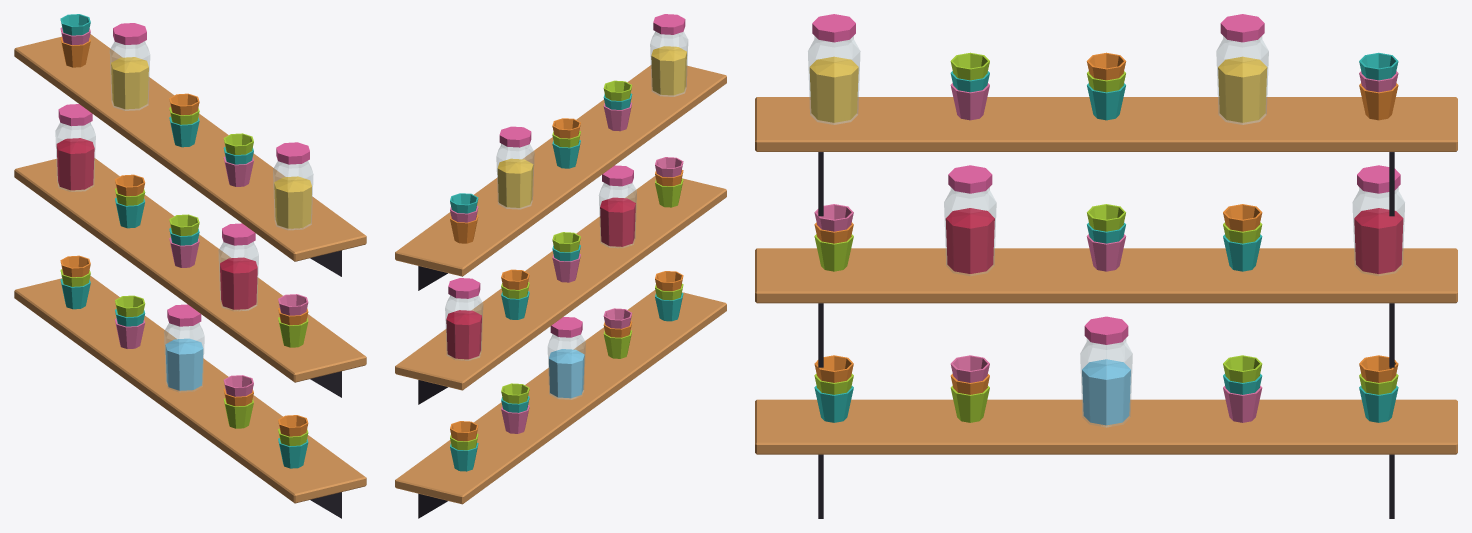
3 views of the same model, side by side, from view 1: azimuth 30°, elevation 25°; view 2: azimuth 150°, elevation 25°; view 3: azimuth 270°, elevation 25° (orthographic). The views are drawn at different scales.
Visible parts, largest first — view 1: shelf_0, shelf_1, shelf_2, jar_11, jar_14, jar_7, jar_10, jar_3, jar_fill_3, jar_fill_10, jar_fill_11, jar_fill_14 (+29 smaller); view 2: shelf_0, shelf_2, shelf_1, jar_7, jar_3, jar_10, jar_11, jar_14, jar_fill_14, jar_fill_11, jar_fill_10, jar_fill_7 (+29 smaller); view 3: shelf_0, shelf_1, shelf_2, jar_14, jar_3, jar_11, jar_7, jar_10, jar_fill_7, jar_fill_11, jar_fill_14, jar_fill_3 (+26 smaller).
Part boxes in pixels (x1,y1,x2,y2): shelf_0: (14,276,366,503); shelf_1: (14,158,366,382); shelf_2: (14,34,366,261); jar_11: (273,160,313,229); jar_14: (110,41,149,110); jar_7: (218,241,258,310); jar_10: (55,122,95,191); jar_3: (164,323,204,392); jar_fill_3: (165,338,203,390); jar_fill_10: (56,138,94,190); jar_fill_11: (274,176,311,228); jar_fill_14: (111,57,148,109); shelf_0: (395,290,726,504); shelf_2: (395,65,726,276); shelf_1: (395,176,726,390); jar_7: (599,182,636,247); jar_3: (548,334,585,399); jar_10: (445,295,482,360); jar_11: (650,31,687,96); jar_14: (496,144,534,209); jar_fill_14: (497,158,533,207); jar_fill_11: (651,46,686,95); jar_fill_10: (446,310,481,359); jar_fill_7: (600,197,635,246); shelf_0: (755,399,1457,454); shelf_1: (755,248,1457,303); shelf_2: (755,97,1457,151); jar_14: (1216,36,1268,124); jar_3: (1080,339,1132,427); jar_11: (808,36,860,124); jar_7: (944,187,996,275); jar_10: (1352,187,1404,275); jar_fill_7: (945,208,994,273); jar_fill_11: (809,56,858,122); jar_fill_14: (1218,56,1267,122); jar_fill_3: (1082,359,1130,425).
Bounding box in the file's own units: 0.24 × 1.18 × 1.6.
